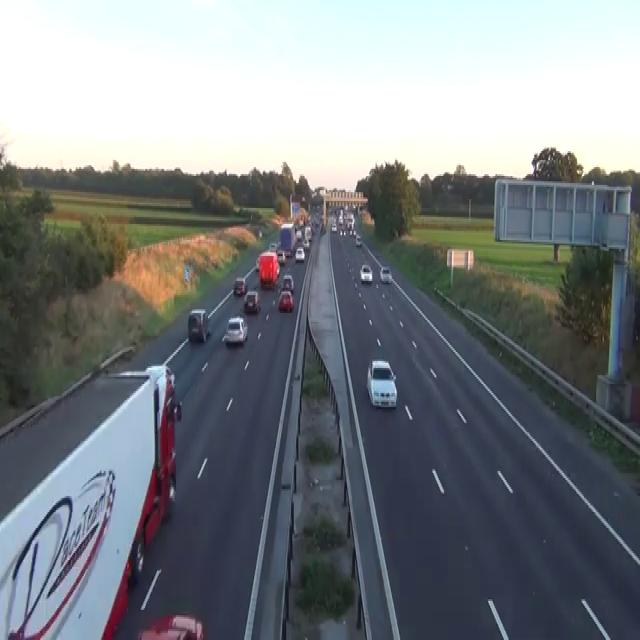Car: (137, 614, 203, 638), (366, 359, 397, 407), (126, 538, 144, 586), (187, 308, 210, 343), (222, 316, 248, 345), (243, 290, 260, 313), (277, 290, 293, 311), (359, 263, 372, 283), (281, 274, 294, 293), (379, 265, 392, 283), (233, 277, 246, 295), (255, 251, 266, 270), (295, 247, 304, 261), (277, 251, 285, 265), (319, 222, 326, 235), (255, 254, 260, 270), (269, 242, 277, 252), (302, 238, 309, 249), (295, 229, 302, 240), (355, 235, 362, 245), (275, 262, 280, 276), (339, 226, 346, 236), (446, 182, 454, 190), (331, 222, 337, 231), (351, 228, 356, 236), (338, 215, 342, 224), (259, 230, 262, 238)
Truck: (0, 363, 182, 638), (258, 249, 279, 288), (279, 222, 296, 256)
